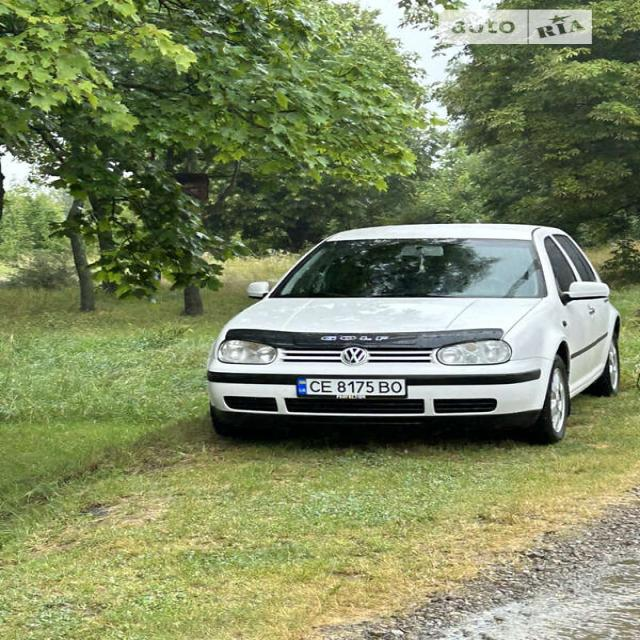plate: (293, 367, 417, 405)
